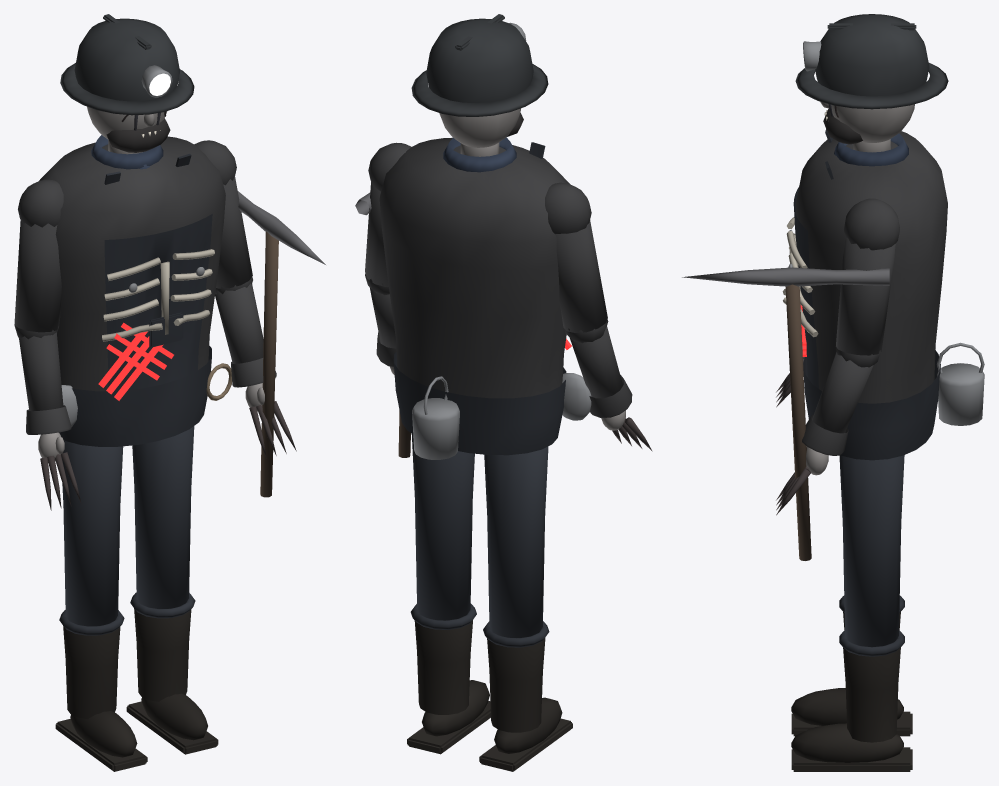
File: lost_miner.glb
3 renders of one model, left to right at view 1: azimuth 30°, elevation 25°; view 2: azimuth 150°, elevation 25°; view 3: azimuth 270°, elevation 25°, orthographic. The views are drawn at different scales.
Parts seen in each view (by area): view 1: Shirt, Miner_Root_SootDenim, LegA_SootDenim, ArmA_SootShirt, LegB_SootDenim, Head_MinerHelmet, LegA_PitBoot, LegB_PitBoot, ArmB_SootShirt, Miner_Root_HBone, Haft, Miner_Root_HWound (+8 smaller); view 2: Shirt, LegA_SootDenim, LegB_SootDenim, Head_MinerHelmet, ArmA_SootShirt, Miner_Root_SootDenim, LegA_PitBoot, LegB_PitBoot, ArmB_SootShirt, Tail_LampTin, Head_SootySkin, Miner_Root_Kerchief (+2 smaller); view 3: Shirt, LegB_SootDenim, ArmB_SootShirt, Head_MinerHelmet, LegB_PitBoot, Miner_Root_SootDenim, Haft, Tail_LampTin, PickHead, LegA_PitBoot, Head_SootySkin, Miner_Root_Kerchief (+3 smaller).
Boxes of the visible parts, x1,y1,x2,y2 form: Shirt: (39,136,225,391); Miner_Root_SootDenim: (59,153,212,446); LegA_SootDenim: (59,440,124,635); ArmA_SootShirt: (14,179,71,434); LegB_SootDenim: (130,426,195,618); Head_MinerHelmet: (60,14,194,115); LegA_PitBoot: (55,626,147,771); LegB_PitBoot: (126,608,218,754); ArmB_SootShirt: (194,140,276,387); Miner_Root_HBone: (102,249,214,341); Haft: (260,231,278,497); Miner_Root_HWound: (98,322,173,400); Shirt: (379,137,570,398); LegA_SootDenim: (483,446,549,647); LegB_SootDenim: (410,434,476,629); Head_MinerHelmet: (411,14,548,116); ArmA_SootShirt: (545,182,632,417); Miner_Root_SootDenim: (393,142,566,455); LegA_PitBoot: (479,638,572,771); LegB_PitBoot: (407,620,490,754); ArmB_SootShirt: (365,142,411,366); Tail_LampTin: (412,376,459,459); Head_SootySkin: (439,108,520,156); Miner_Root_Kerchief: (443,137,516,172); Shirt: (796,131,947,403); LegB_SootDenim: (839,455,904,656); ArmB_SootShirt: (802,198,899,455); Head_MinerHelmet: (795,14,948,109); LegB_PitBoot: (791,647,912,771); Miner_Root_SootDenim: (793,129,940,460); Haft: (785,284,811,560); Tail_LampTin: (937,342,984,425); PickHead: (682,267,889,286); LegA_PitBoot: (791,612,912,736); Head_SootySkin: (820,101,914,152); Miner_Root_Kerchief: (834,133,908,166).
Size of the model in its own units: 0.6575 by 1.8 by 0.684.
